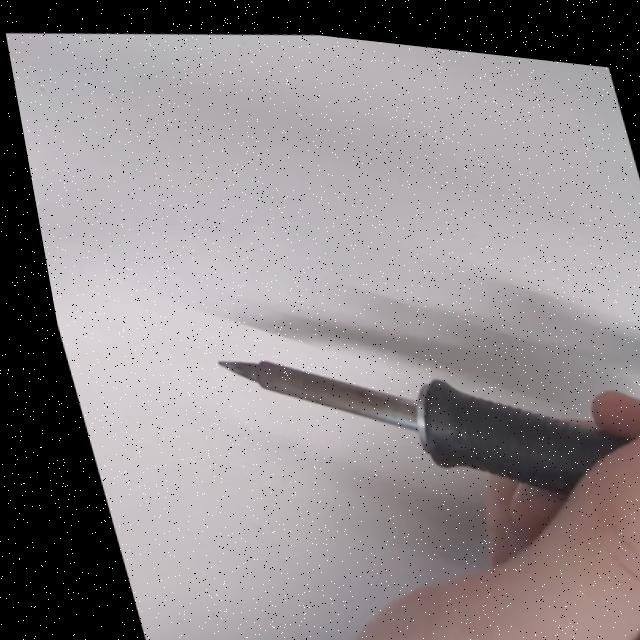soldering_iron: (204, 306, 640, 555)
